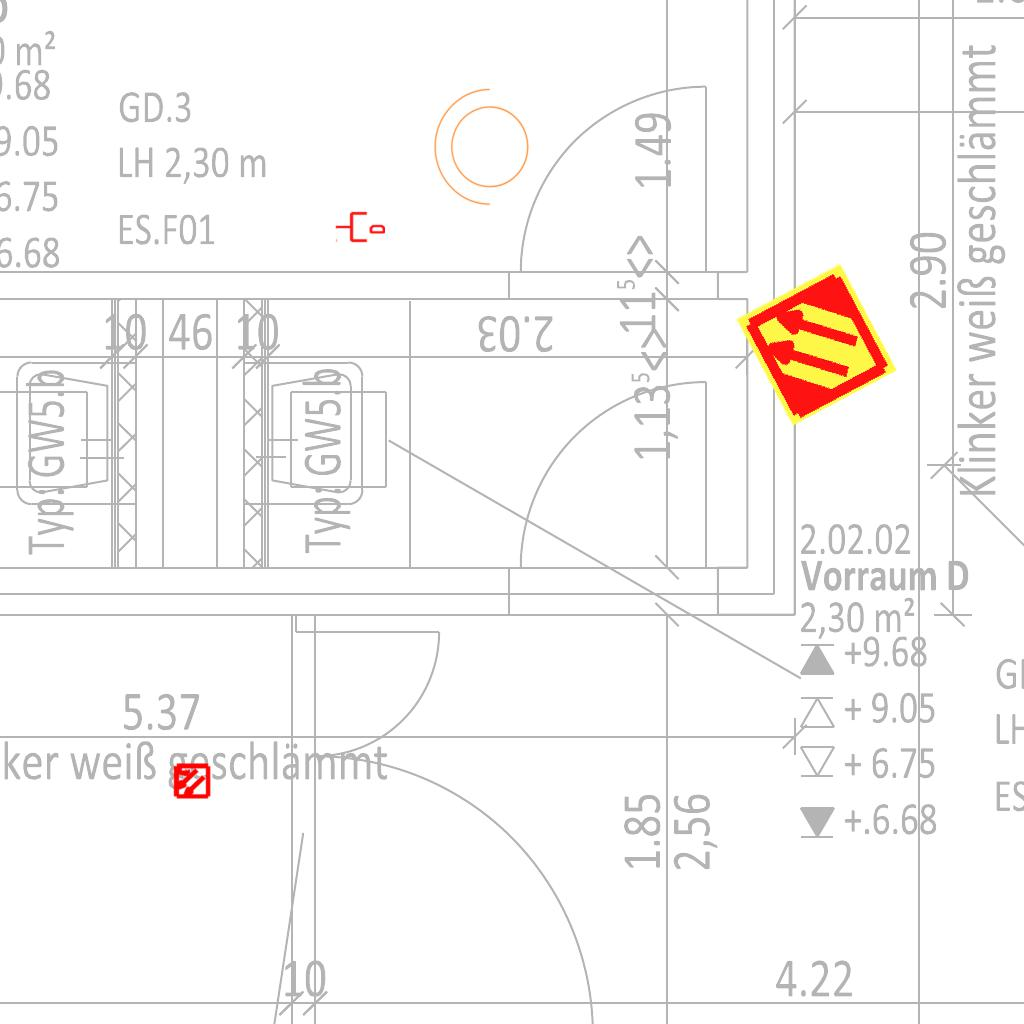ASR_Ansaugrauchmelder: (731, 259, 902, 430)
Datenanschluss_einfach: (335, 210, 385, 244)
OT_Multisensormelder_(Kombination_RMO_WMD): (163, 753, 219, 809)
Scheinwerfer_fuer_Alarmbeleuchtung: (429, 84, 541, 216)
